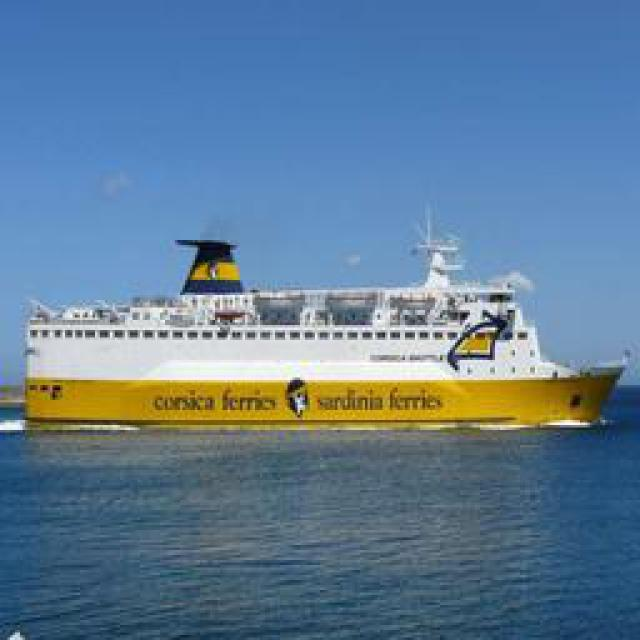Ship: (10, 231, 623, 426)
